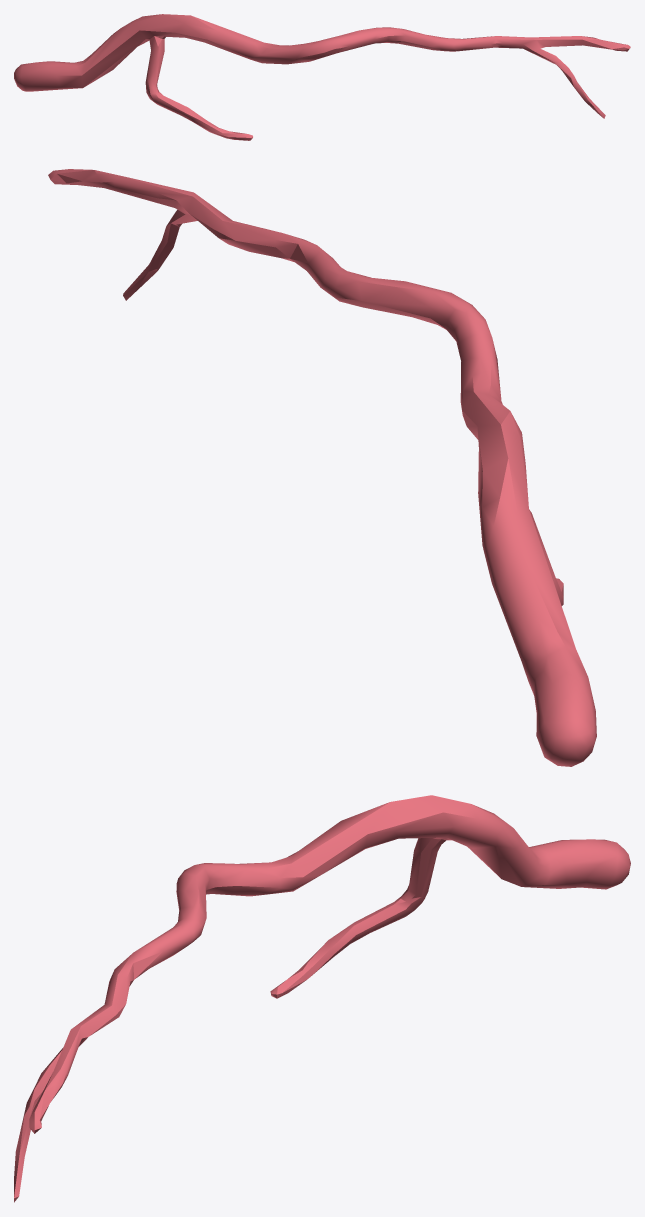
Rendered from fma49571_fj5202.glb.
The picture shows the model from 3 angles, top to bottom: view 1: azimuth 30°, elevation 25°; view 2: azimuth 150°, elevation 25°; view 3: azimuth 270°, elevation 25°; orthographic projection. The views are drawn at different scales.
Visible parts, largest first — view 1: FMA49571_FJ5202; view 2: FMA49571_FJ5202; view 3: FMA49571_FJ5202.
Boxes of the visible parts, x1,y1,x2,y2 form: FMA49571_FJ5202: [14, 14, 630, 140]; FMA49571_FJ5202: [48, 169, 596, 766]; FMA49571_FJ5202: [14, 795, 630, 1202].
Bounding box in the file's own units: 0.0331 × 0.00764 × 0.0239.
